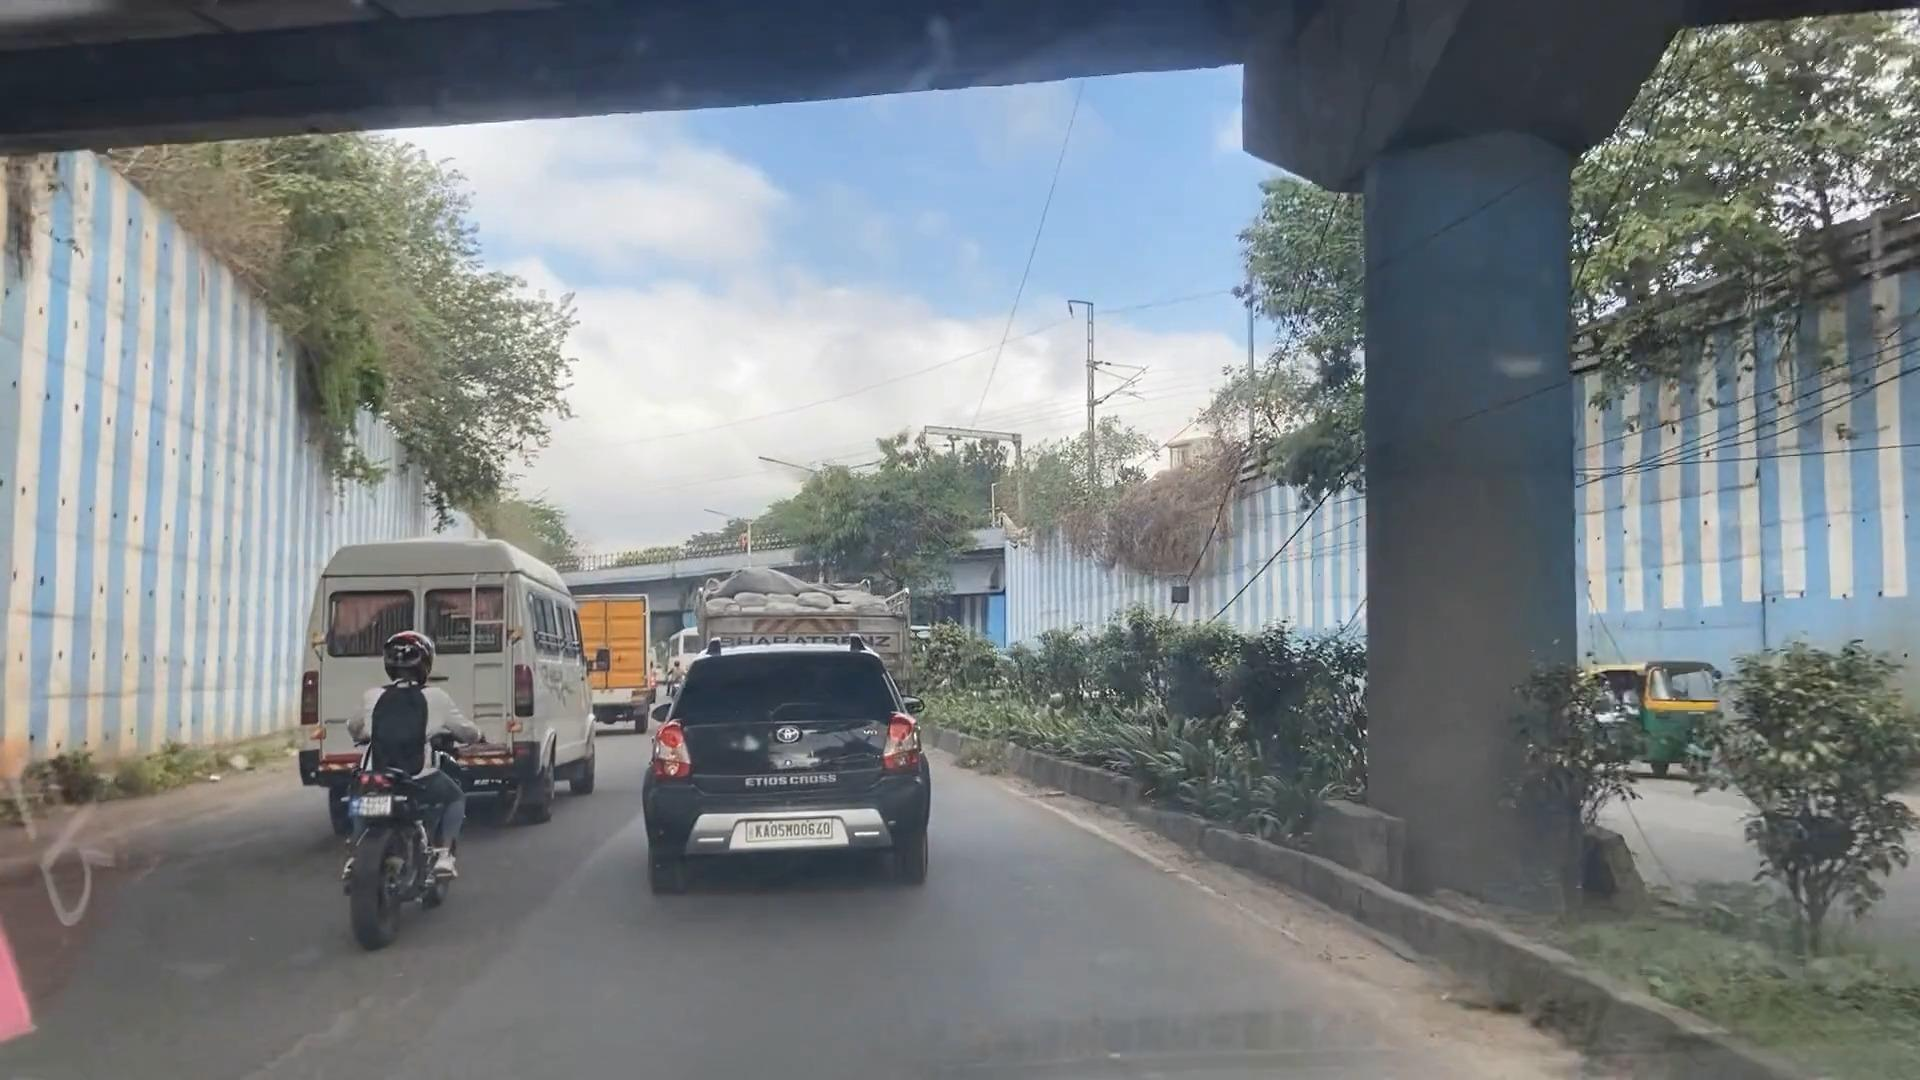HMV: (316, 547, 604, 816)
LMV: (663, 661, 931, 885), (345, 644, 473, 972)
RoadDamages: (181, 998, 467, 1080)
